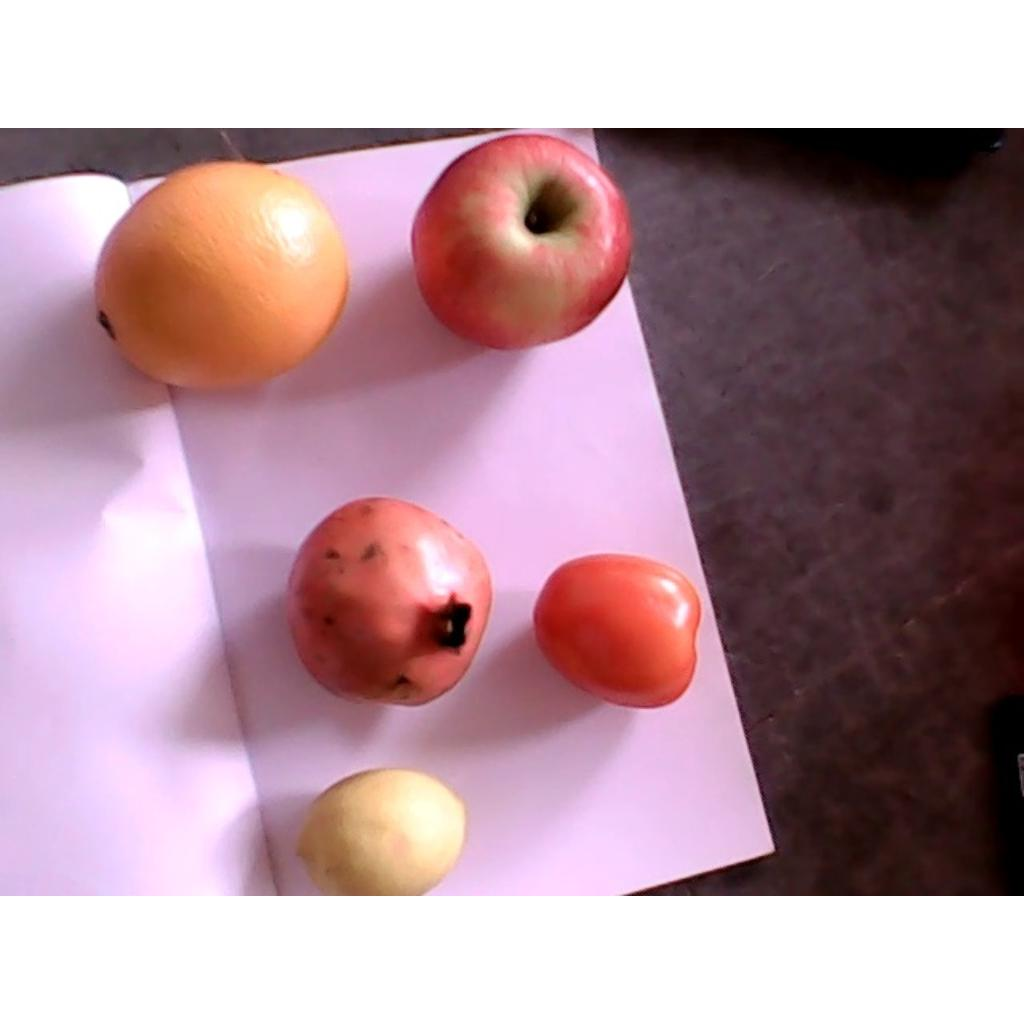apple: (409, 133, 631, 353)
lemon: (297, 768, 465, 894)
orange: (96, 161, 348, 392)
pomegranate: (287, 497, 491, 707)
tomato: (534, 553, 702, 710)
